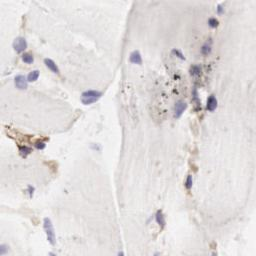nucleus: (44, 216, 55, 247), (10, 37, 27, 53), (43, 58, 59, 72), (77, 88, 104, 96), (175, 101, 187, 119), (201, 38, 213, 55), (129, 49, 142, 64), (27, 69, 40, 83), (15, 75, 27, 90), (22, 52, 34, 64), (79, 98, 101, 104), (172, 49, 185, 59), (208, 96, 216, 111), (186, 172, 193, 188), (1, 245, 9, 256), (36, 144, 48, 151), (28, 183, 34, 197), (90, 144, 102, 150), (207, 19, 215, 26), (218, 4, 223, 15), (21, 150, 30, 156), (155, 216, 161, 224), (117, 251, 125, 256), (50, 251, 55, 256), (212, 252, 217, 256), (154, 252, 158, 256)
positive_cell: (11, 131, 31, 158), (185, 164, 194, 196), (31, 135, 48, 151), (155, 211, 167, 233)
